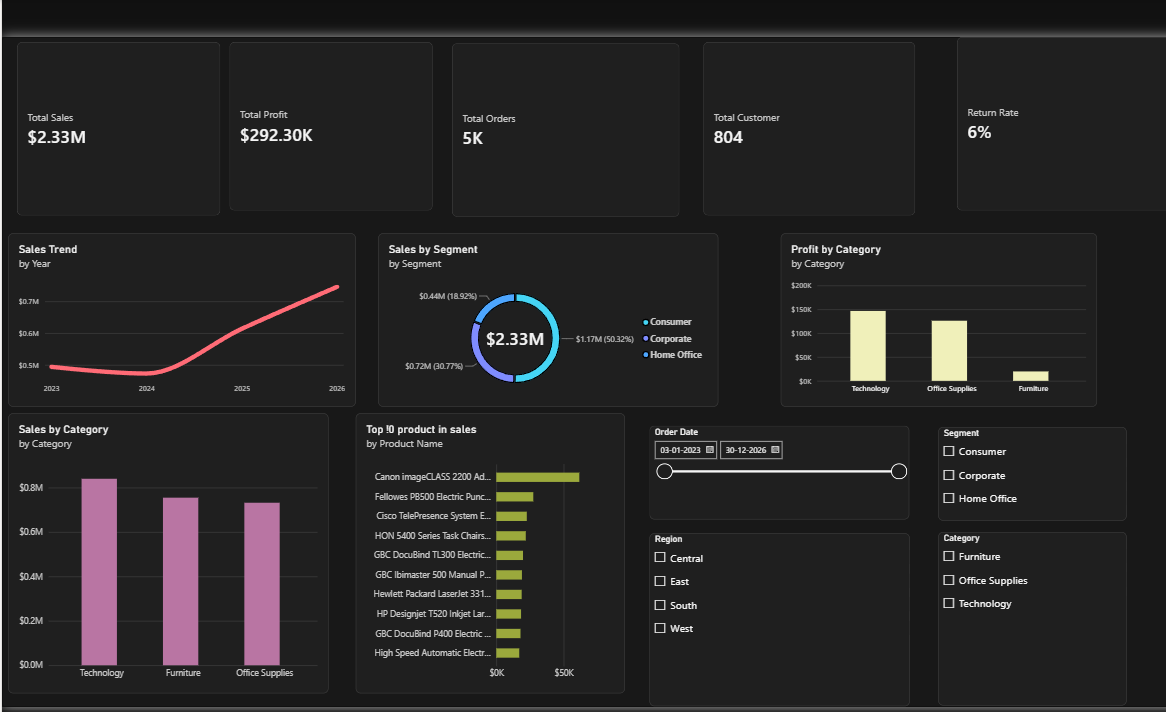

What the dashboard file says about the page in this screenshot:
{"tool":"powerbi","page":{"name":"Page 1","canvas":[1920,1080],"ordinal":0},"visuals":[{"type":"cardVisual","fields":{"Data":["Orders.Total Sales"]},"box":[24.2,8.1,328.5,280.5],"z":0},{"type":"cardVisual","fields":{"Data":["Orders.Total Profit"]},"box":[367.1,8.1,328.8,272.3],"z":1},{"type":"cardVisual","fields":{"Data":["Orders.Unique orders"]},"box":[726.2,10.1,367.1,280.4],"z":2},{"type":"cardVisual","fields":{"Data":["Orders.Unique customer"]},"box":[1131.7,8.1,342.9,280.4],"z":3},{"type":"cardVisual","fields":{"Data":["Orders.Return_rate"]},"box":[1541.2,0,353,280.4],"z":4},{"type":"lineChart","fields":{"Category":["Orders.Order Date.Variation.Date Hierarchy.Year","Orders.Order Date.Variation.Date Hierarchy.Month"],"Y":["Orders.Total Sales"]},"box":[10.1,316.7,560.8,280.4],"z":5},{"type":"clusteredColumnChart","fields":{"Category":["Orders.Category"],"Y":["Orders.Total Sales"]},"box":[10.1,607.2,516.4,451.9],"z":6},{"type":"donutChart","fields":{"Category":["Orders.Segment"],"Y":["Orders.Total Sales"]},"box":[607.2,316.7,548.7,280.4],"z":7},{"type":"barChart","fields":{"Category":["Orders.Product Name"],"Y":["Orders.Total Sales"]},"box":[570.9,607.2,434,452],"z":8},{"type":"clusteredColumnChart","fields":{"Category":["Orders.Category"],"Y":["Orders.Total Profit"]},"box":[1256.7,316.7,510.4,280.4],"z":9},{"type":"slicer","fields":{"Values":["Orders.Order Date"]},"box":[1044.9,627.4,419.6,151.3],"z":10},{"type":"slicer","fields":{"Values":["Orders.Region"]},"box":[1044.9,800.8,420,279],"z":11},{"type":"slicer","fields":{"Values":["Orders.Category"]},"box":[1510.9,798.8,304,280],"z":12},{"type":"slicer","fields":{"Values":["Orders.Segment"]},"box":[1510.9,629.4,304,151],"z":13}]}

Visuals, with their boxes on the page's 1920x1080 design canvas (x1, y1, x2, y2). These are canvas units, not pixel positions in the 1166x712 screenshot, which may show the page scaled, cropped or inside an application window:
cardVisual - Orders.Total Sales: locate(24, 8, 353, 289)
cardVisual - Orders.Total Profit: locate(367, 8, 696, 280)
cardVisual - Orders.Unique orders: locate(726, 10, 1093, 290)
cardVisual - Orders.Unique customer: locate(1132, 8, 1475, 288)
cardVisual - Orders.Return_rate: locate(1541, 0, 1894, 280)
lineChart - Orders.Order Date.Variation.Date Hierarchy.Year x Orders.Order Date.Variation.Date Hierarchy.Month: locate(10, 317, 571, 597)
clusteredColumnChart - Orders.Category x Orders.Total Sales: locate(10, 607, 526, 1059)
donutChart - Orders.Segment x Orders.Total Sales: locate(607, 317, 1156, 597)
barChart - Orders.Product Name x Orders.Total Sales: locate(571, 607, 1005, 1059)
clusteredColumnChart - Orders.Category x Orders.Total Profit: locate(1257, 317, 1767, 597)
slicer - Orders.Order Date: locate(1045, 627, 1464, 779)
slicer - Orders.Region: locate(1045, 801, 1465, 1080)
slicer - Orders.Category: locate(1511, 799, 1815, 1079)
slicer - Orders.Segment: locate(1511, 629, 1815, 780)
